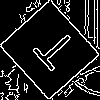T: (25, 25, 80, 79)
